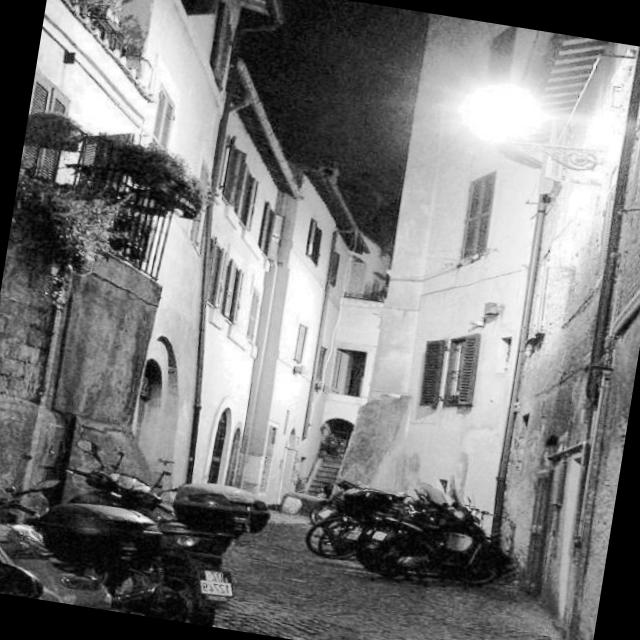Motorcycle: (26, 442, 270, 632), (267, 452, 502, 596), (330, 456, 512, 614), (0, 462, 133, 611)
